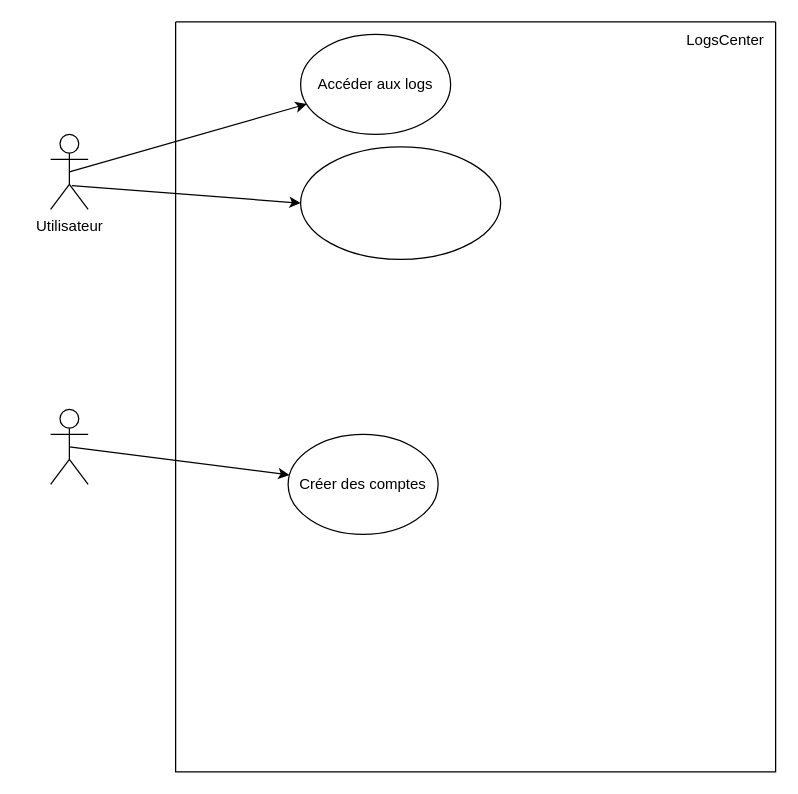
Some shapes in this 798 by 794 pixel diagram are drawn without their labels. The box of each missing label's shape, as (x1, y1, x2, y2) in pixels:
Administrateur: (49, 408, 88, 484)
Modifier son mot de passe: (299, 146, 501, 259)
